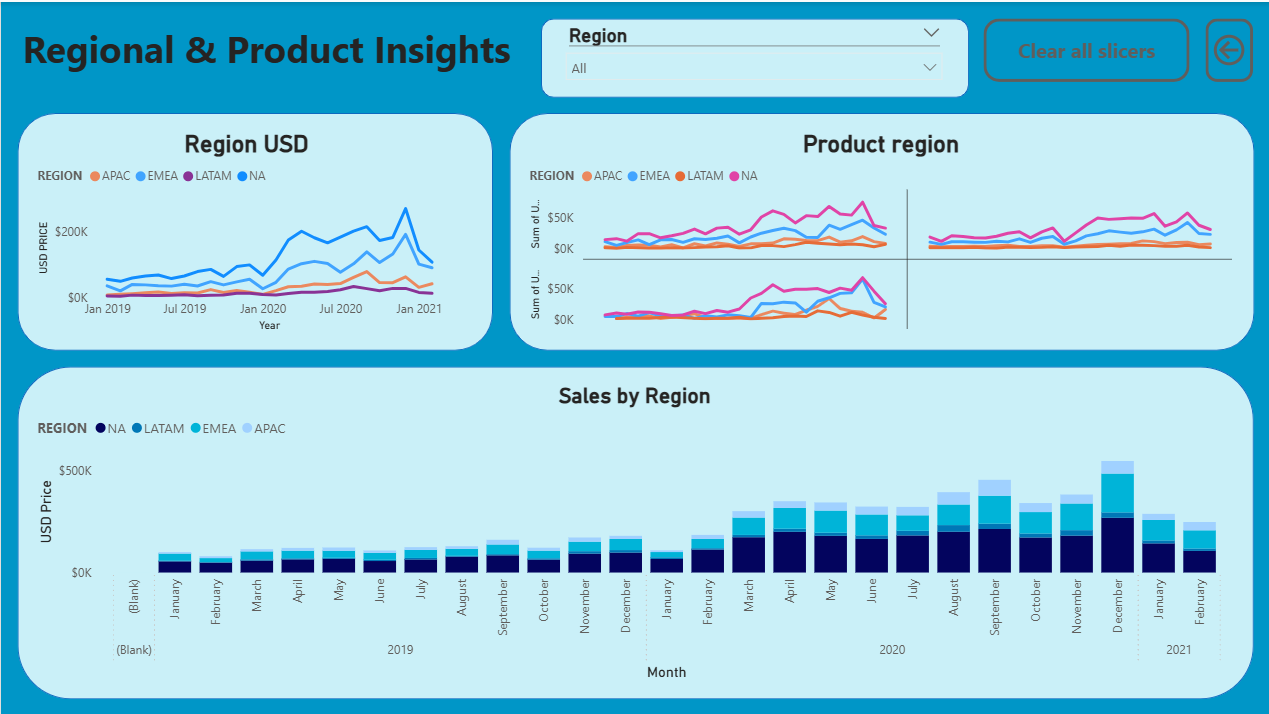

What the dashboard file says about the page in this screenshot:
{"tool":"powerbi","page":{"name":"Region","canvas":[1280,720],"ordinal":1},"visuals":[{"type":"group","id":"g1","title":"Backgraound","box":[16,16,1248,688],"z":0},{"type":"shape","box":[16,112,480,240],"z":0,"group":"g1"},{"type":"shape","box":[512,112,752,240],"z":1000,"group":"g1"},{"type":"columnChart","title":"Sales by Region ","fields":{"Y":["Sum(orders_CLEAN.USD_PRICE)"],"Series":["region_CLEAN.REGION"],"Category":["orders_CLEAN.PURCHASE_TS_CLEANED .Variation.Date Hierarchy.Year","orders_CLEAN.PURCHASE_TS_CLEANED .Variation.Date Hierarchy.Month"]},"box":[32,384,1216,304],"z":1000},{"type":"lineChart","title":"Product region","fields":{"Y":["Sum(orders_CLEAN.USD_PRICE)"],"Category":["orders_CLEAN.PURCHASE_TS_CLEANED .Variation.Date Hierarchy.Year","orders_CLEAN.PURCHASE_TS_CLEANED .Variation.Date Hierarchy.Month"],"Rows":["orders_CLEAN.PRODUCT_NAME_CLEANED"],"Series":["region_CLEAN.REGION"]},"box":[528,128,720,208],"z":2000},{"type":"shape","box":[16,368,1248,336],"z":2000,"group":"g1"},{"type":"shape","box":[544,16,432,80],"z":3000,"group":"g1"},{"type":"lineChart","title":"Region USD","fields":{"Y":["Sum(orders_CLEAN.USD_PRICE)"],"Category":["orders_CLEAN.PURCHASE_TS_CLEANED .Variation.Date Hierarchy.Year","orders_CLEAN.PURCHASE_TS_CLEANED .Variation.Date Hierarchy.Month"],"Series":["region_CLEAN.REGION"]},"box":[32,128,432,208],"z":3000},{"type":"textbox","box":[16,16,512,64],"z":4000},{"type":"slicer","fields":{"Values":["region_CLEAN.REGION"]},"box":[560,16,400,80],"z":5000},{"type":"actionButton","box":[1216,16,48,64],"z":6000},{"type":"actionButton","box":[992,16,208,64],"z":7000}]}

Visuals, with their boxes in screenshot pixels (x1, y1, x2, y2), scaled from the page's 1280x720 canvas onto the 1269x714 screenshot:
"Backgraound" group: x1=16, y1=16, x2=1253, y2=698
shape: x1=16, y1=111, x2=492, y2=349
shape: x1=508, y1=111, x2=1253, y2=349
"Sales by Region " columnChart: x1=32, y1=381, x2=1237, y2=682
"Product region" lineChart: x1=523, y1=127, x2=1237, y2=333
shape: x1=16, y1=365, x2=1253, y2=698
shape: x1=539, y1=16, x2=968, y2=95
"Region USD" lineChart: x1=32, y1=127, x2=460, y2=333
textbox: x1=16, y1=16, x2=523, y2=79
slicer - region_CLEAN.REGION: x1=555, y1=16, x2=952, y2=95
actionButton: x1=1206, y1=16, x2=1253, y2=79
actionButton: x1=983, y1=16, x2=1190, y2=79
